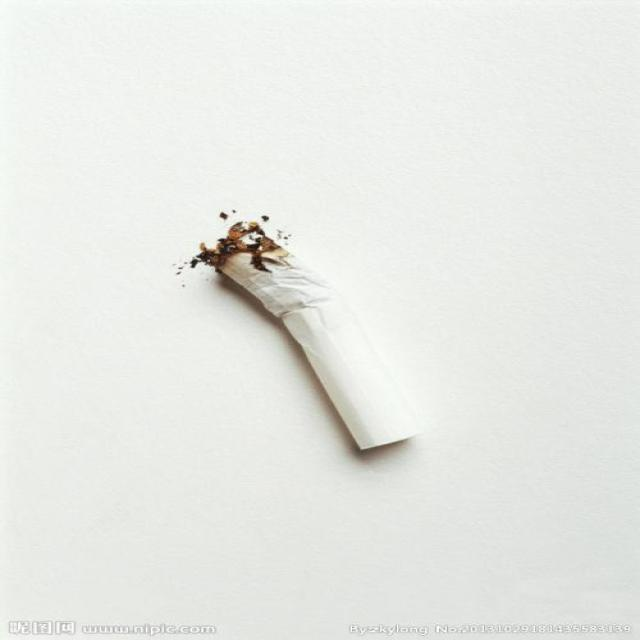b3: (176, 193, 441, 472)
